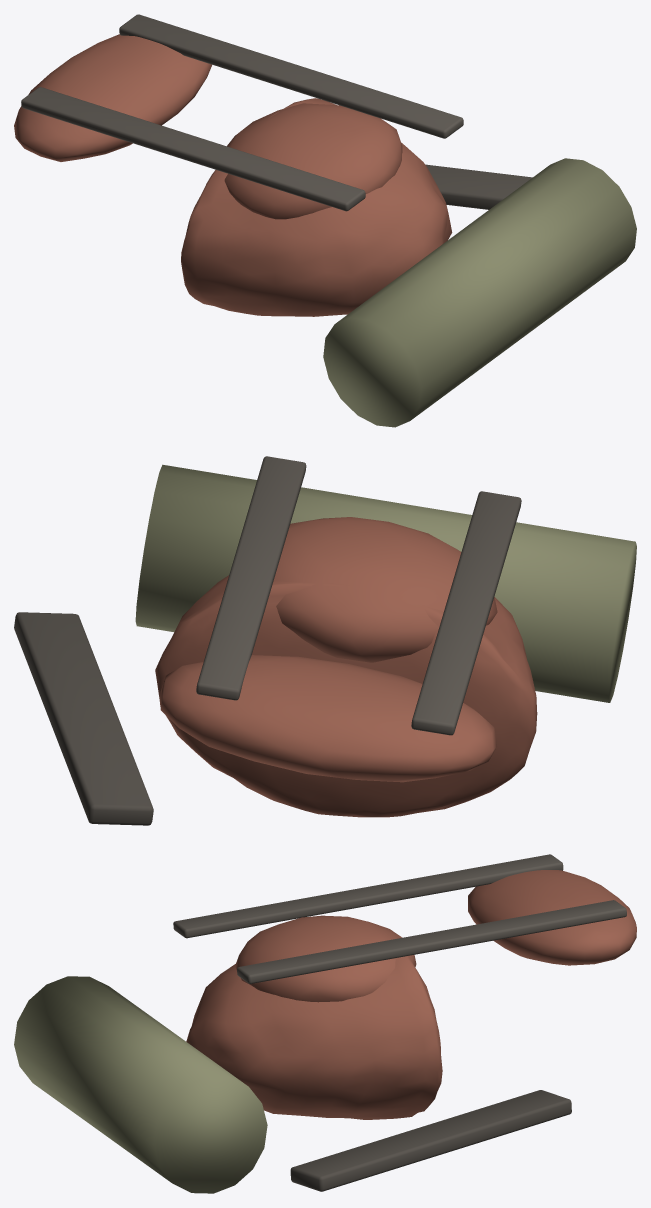
Rendered from backpack.glb.
The picture shows the model from 3 angles, top to bottom: view 1: azimuth 30°, elevation 25°; view 2: azimuth 150°, elevation 25°; view 3: azimuth 270°, elevation 25°; orthographic projection. The views are drawn at different scales.
Visible parts, largest first — view 1: g_pack_red, g_pack_pad, g_pack_dark; view 2: g_pack_red, g_pack_dark, g_pack_pad; view 3: g_pack_red, g_pack_pad, g_pack_dark.
Part boxes in pixels (x1,y1,x2,y2): g_pack_red: (14, 34, 452, 316); g_pack_pad: (323, 158, 636, 427); g_pack_dark: (21, 14, 532, 211); g_pack_red: (155, 517, 537, 817); g_pack_dark: (14, 456, 521, 825); g_pack_pad: (135, 464, 636, 702); g_pack_red: (186, 870, 636, 1119); g_pack_pad: (14, 976, 267, 1193); g_pack_dark: (173, 854, 626, 1191).
Bounding box in the file's own units: 0.6457 × 0.2717 × 0.7573.
